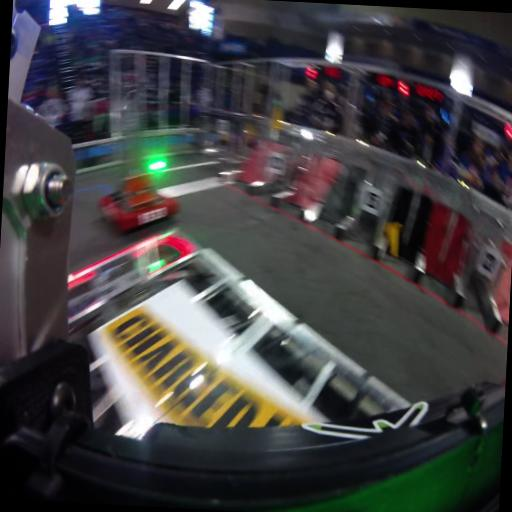robot: (108, 176, 168, 228)
